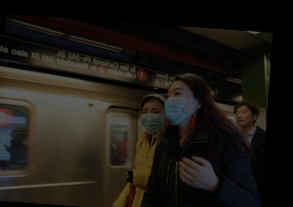with_mask: (162, 85, 194, 126), (138, 106, 164, 135)
without_mask: (233, 106, 251, 125)
